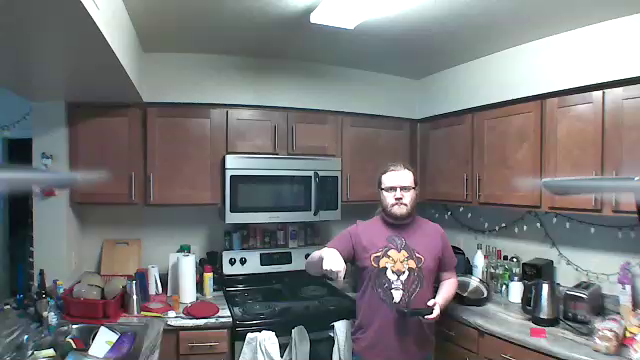down: (318, 242, 347, 287)
